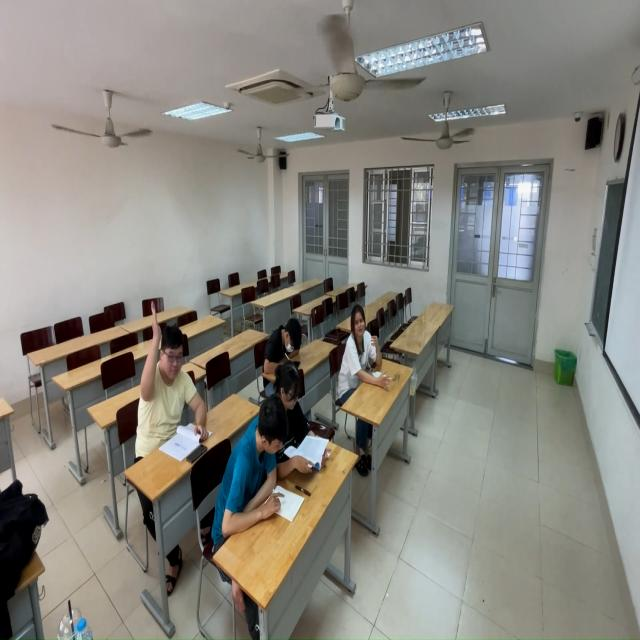raise_hand: (136, 297, 212, 458)
read: (217, 395, 289, 540), (261, 358, 324, 485), (339, 299, 391, 400), (263, 313, 306, 380)
